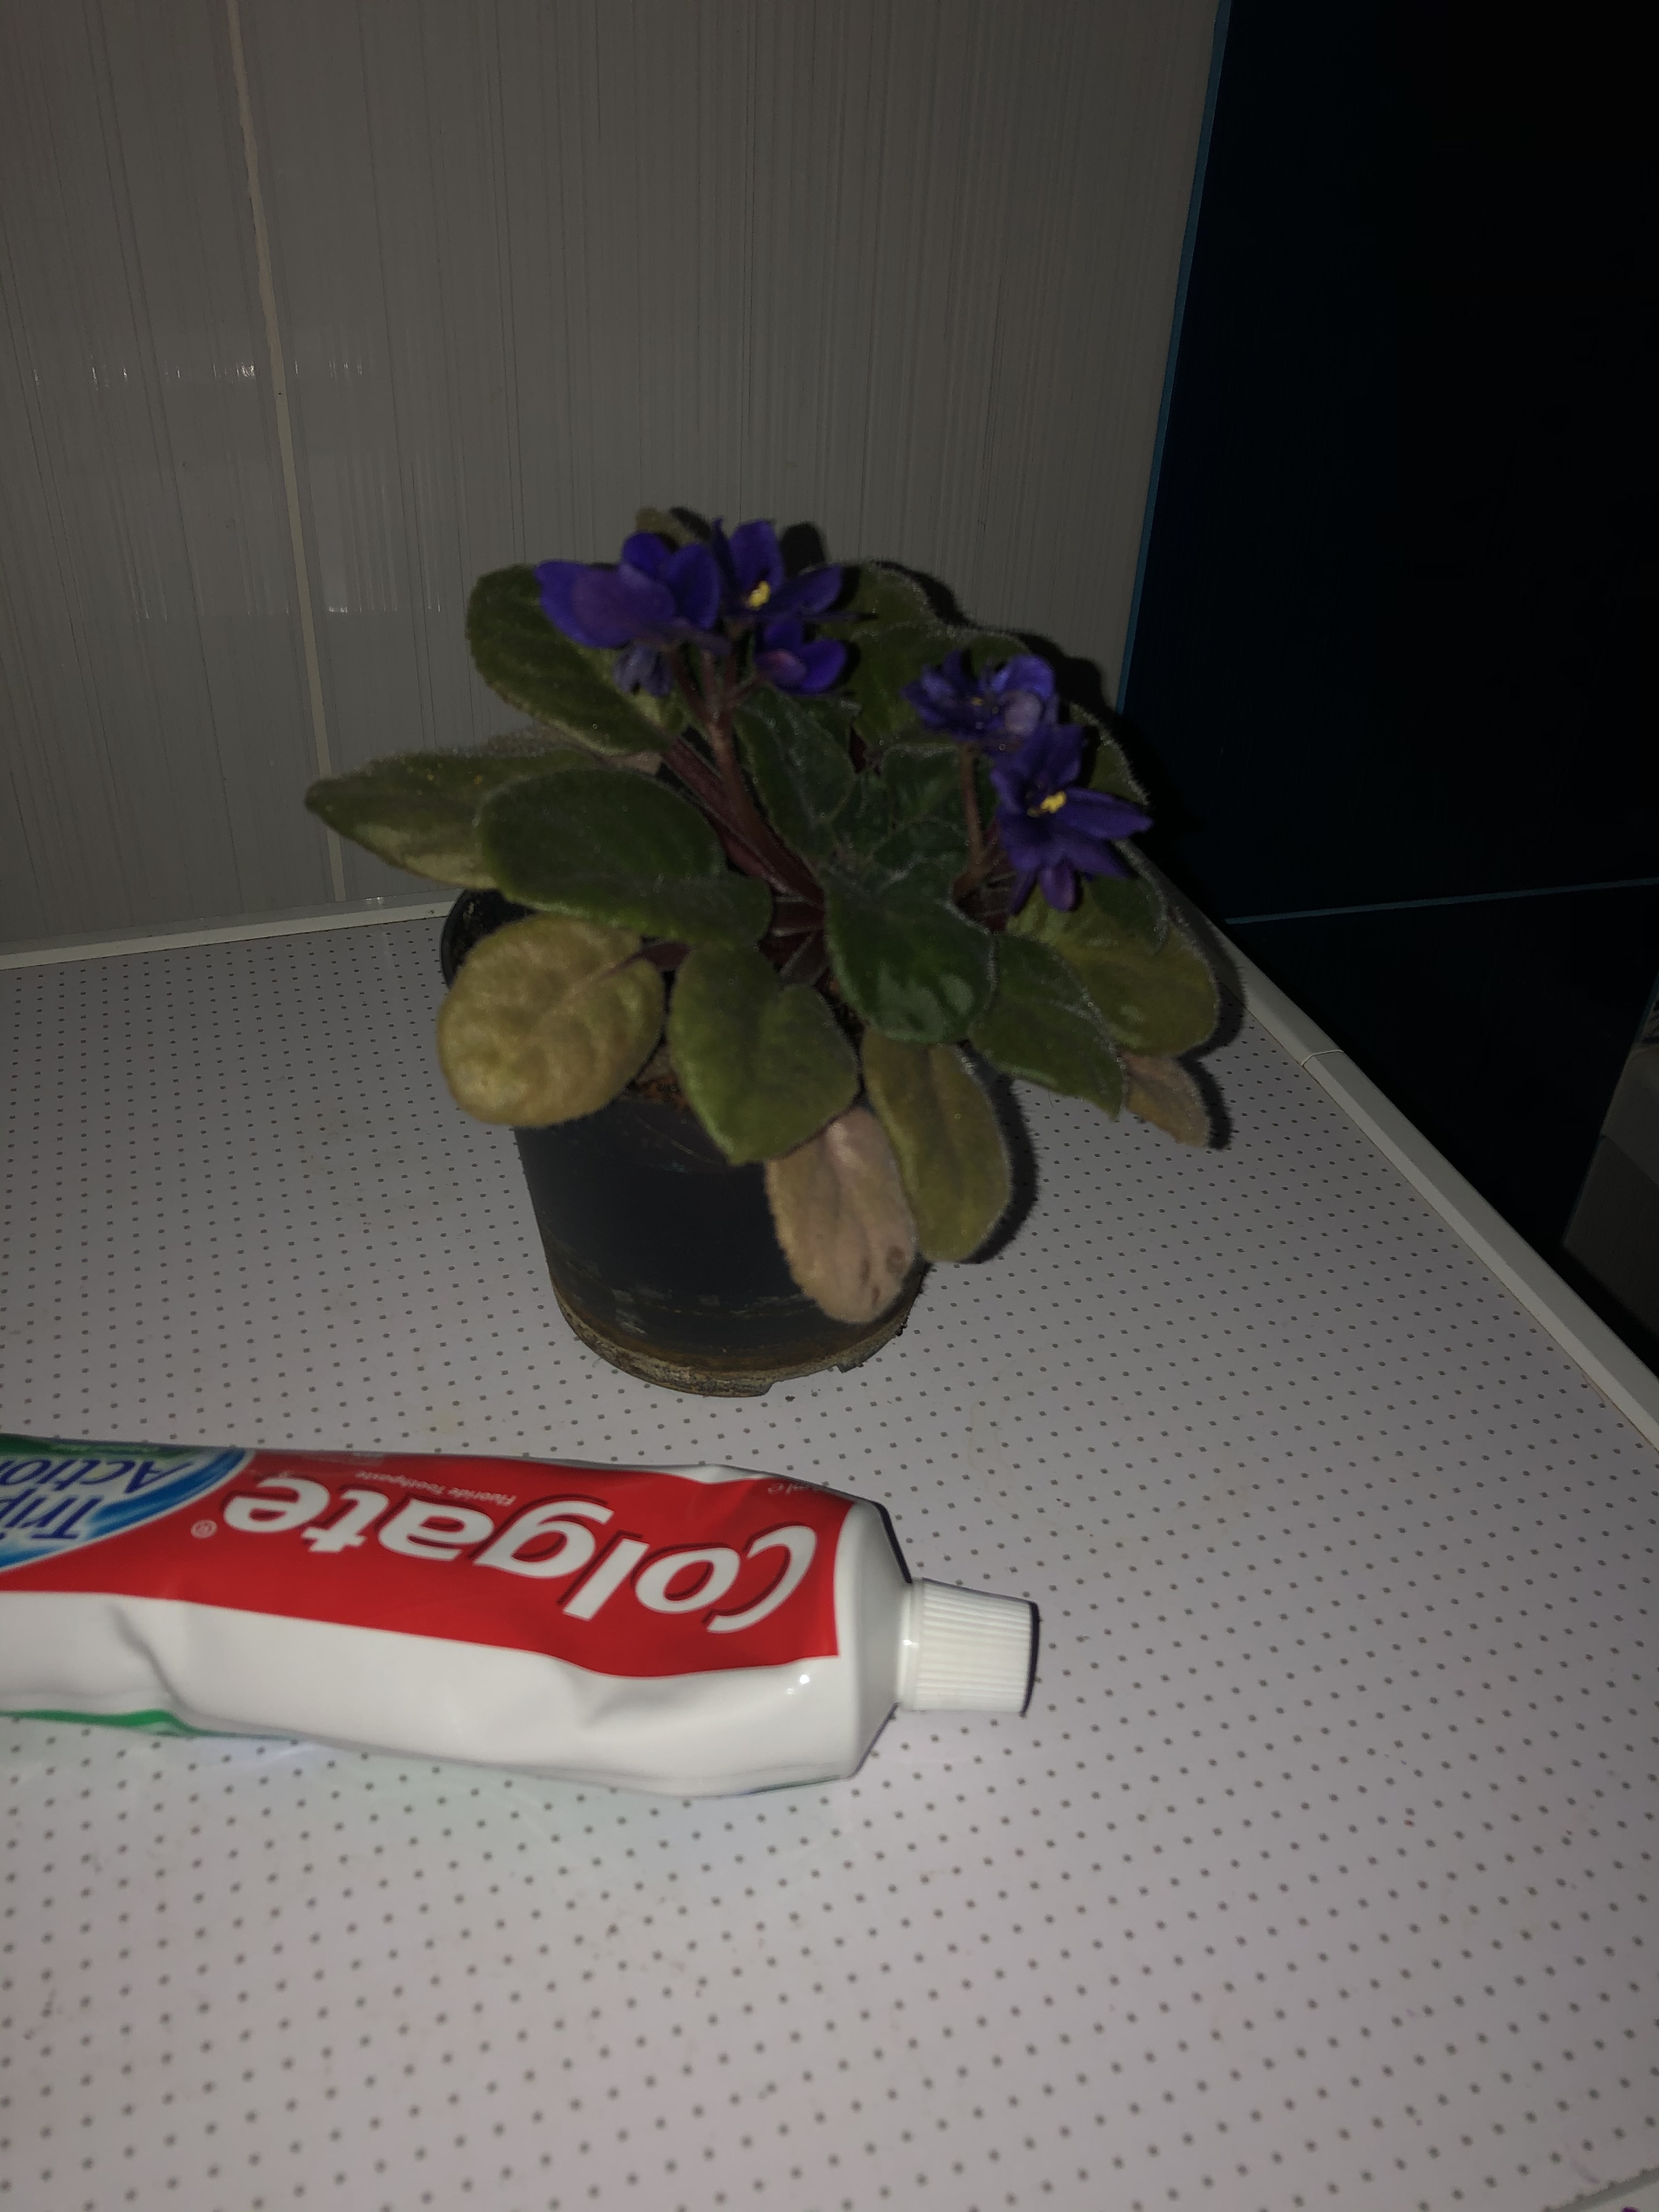ignore: (281, 453, 1305, 1350)
